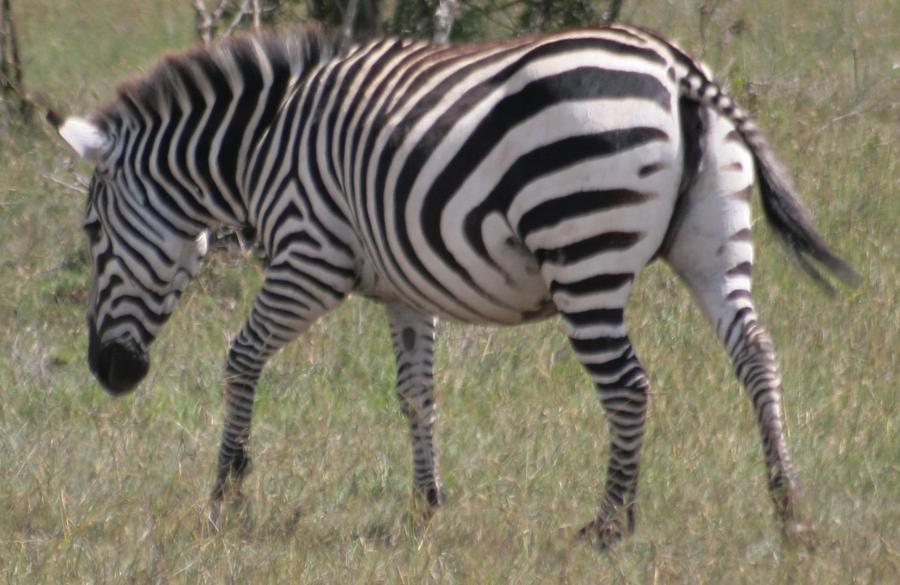zebra_plains: (213, 30, 661, 353)
